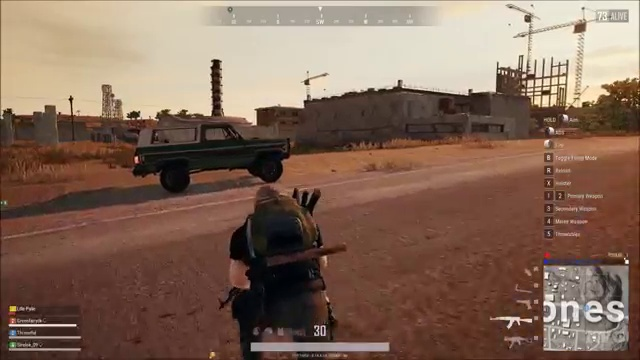Player: (208, 179, 360, 316)
